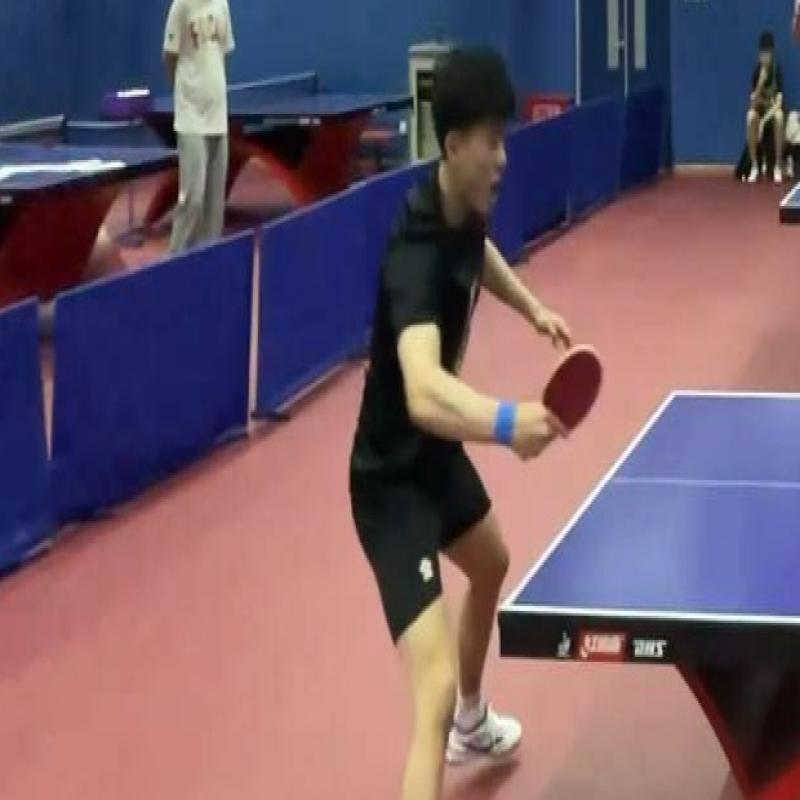bats: (520, 325, 612, 458)
